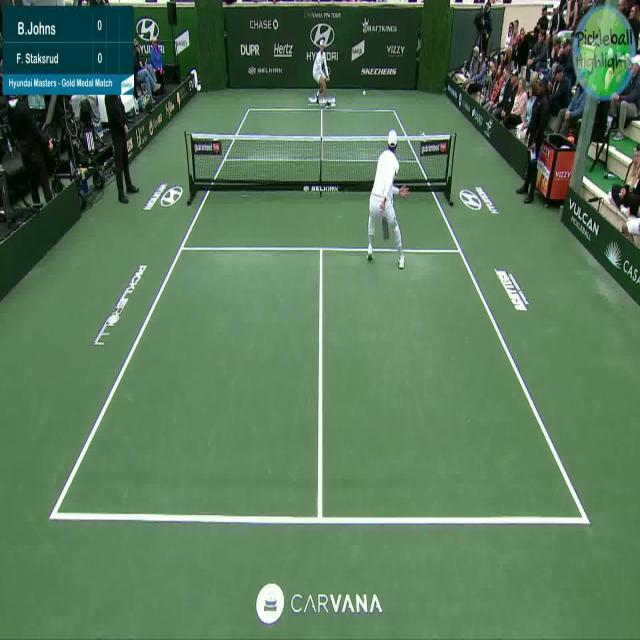Court: (72, 110, 589, 525)
ball: (357, 86, 375, 102)
